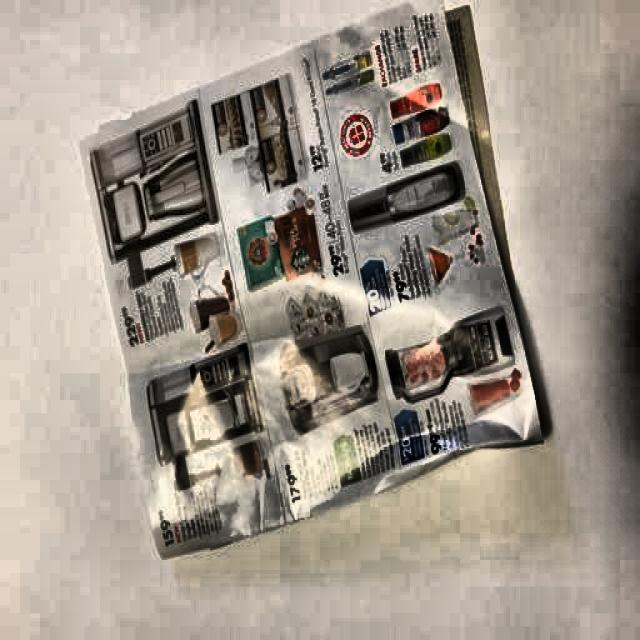paper: (82, 0, 548, 558)
